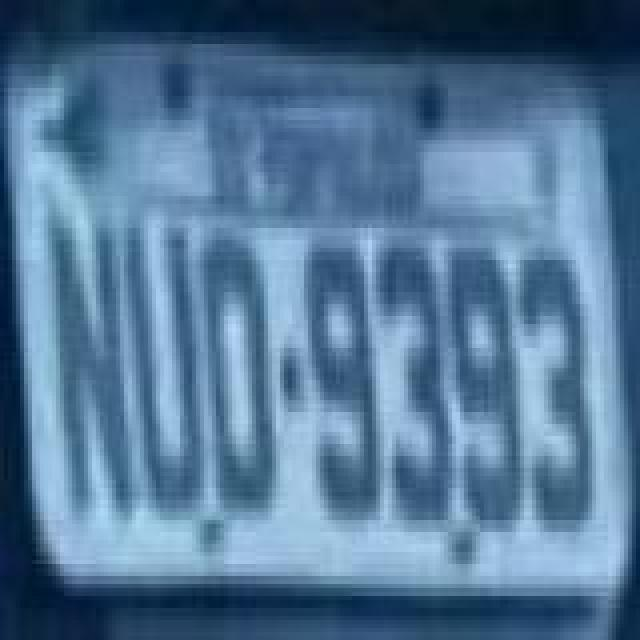3: (376, 242, 456, 526), (512, 256, 592, 528)
9: (304, 242, 384, 526), (448, 250, 528, 534)
D: (200, 234, 280, 526)
N: (48, 206, 136, 522)
U: (126, 222, 202, 514)
